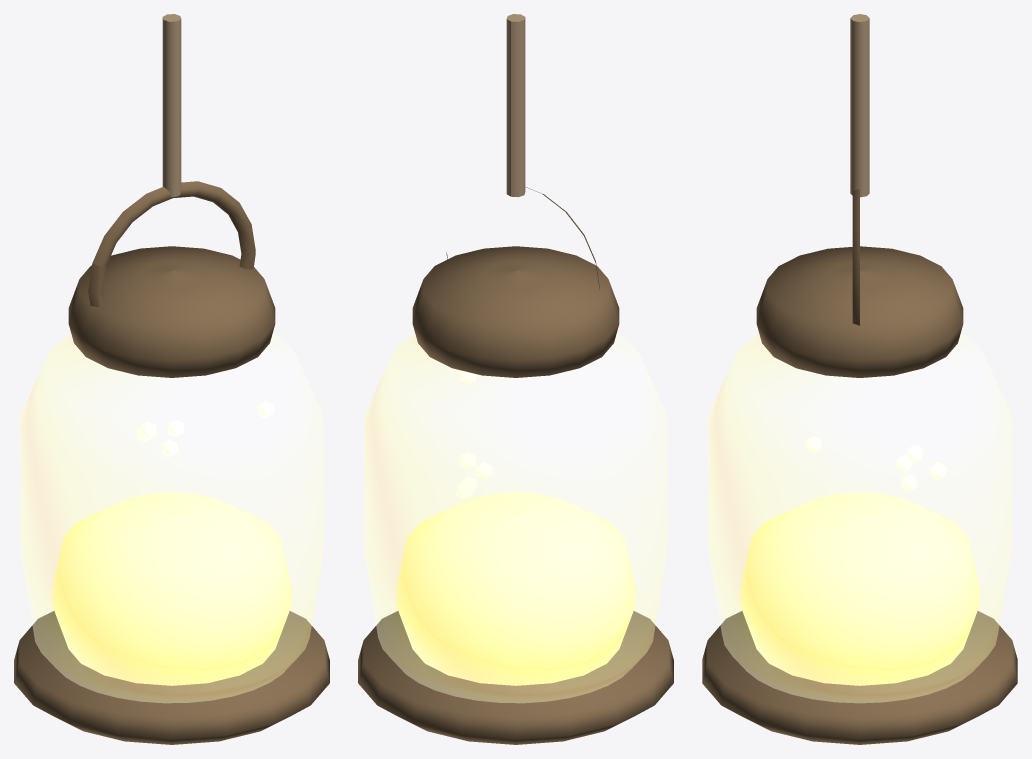
The model's file is mwm_jarlantern.glb.
The picture shows the model from 3 angles, left to right: view 1: azimuth 30°, elevation 25°; view 2: azimuth 150°, elevation 25°; view 3: azimuth 270°, elevation 25°; orthographic projection.
Bounding box in the file's own units: 1.16 × 2.67 × 1.14.
Materials: 2 (1 with a texture image).
